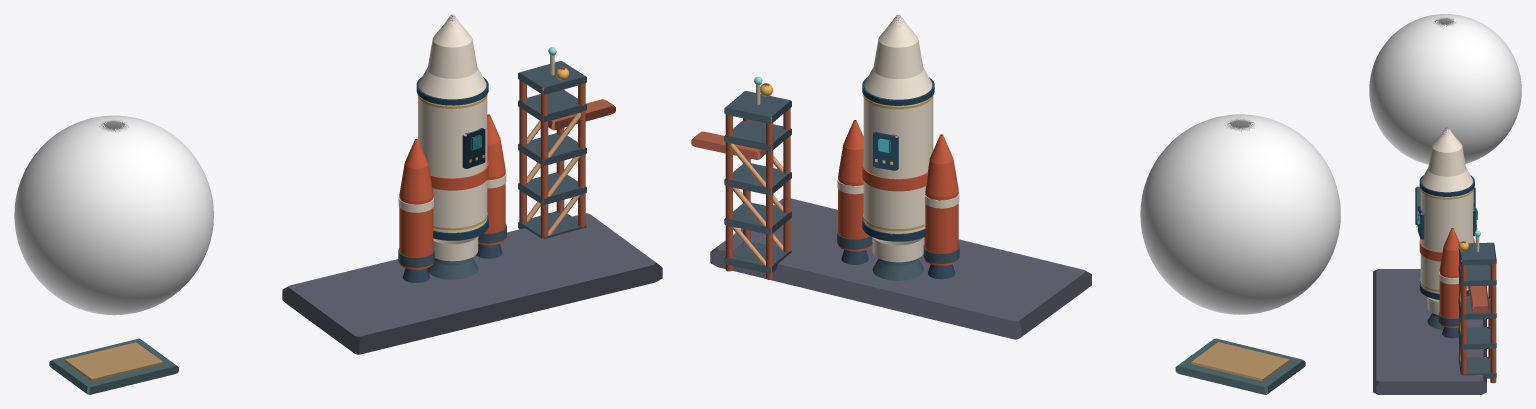
The model's file is pioneer-salida.obj.
The picture shows the model from 3 angles, left to right: view 1: azimuth 30°, elevation 25°; view 2: azimuth 150°, elevation 25°; view 3: azimuth 270°, elevation 25°; orthographic projection. The views are drawn at different scales.
Visible parts, largest first — view 1: pioneer-salida; view 2: pioneer-salida; view 3: pioneer-salida.
Boxes of the visible parts, x1,y1,x2,y2 form: pioneer-salida: (14,14,662,394); pioneer-salida: (691,15,1340,394); pioneer-salida: (1369,14,1521,394).
Size of the model in its own units: 1.55 by 0.6655 by 0.442.
